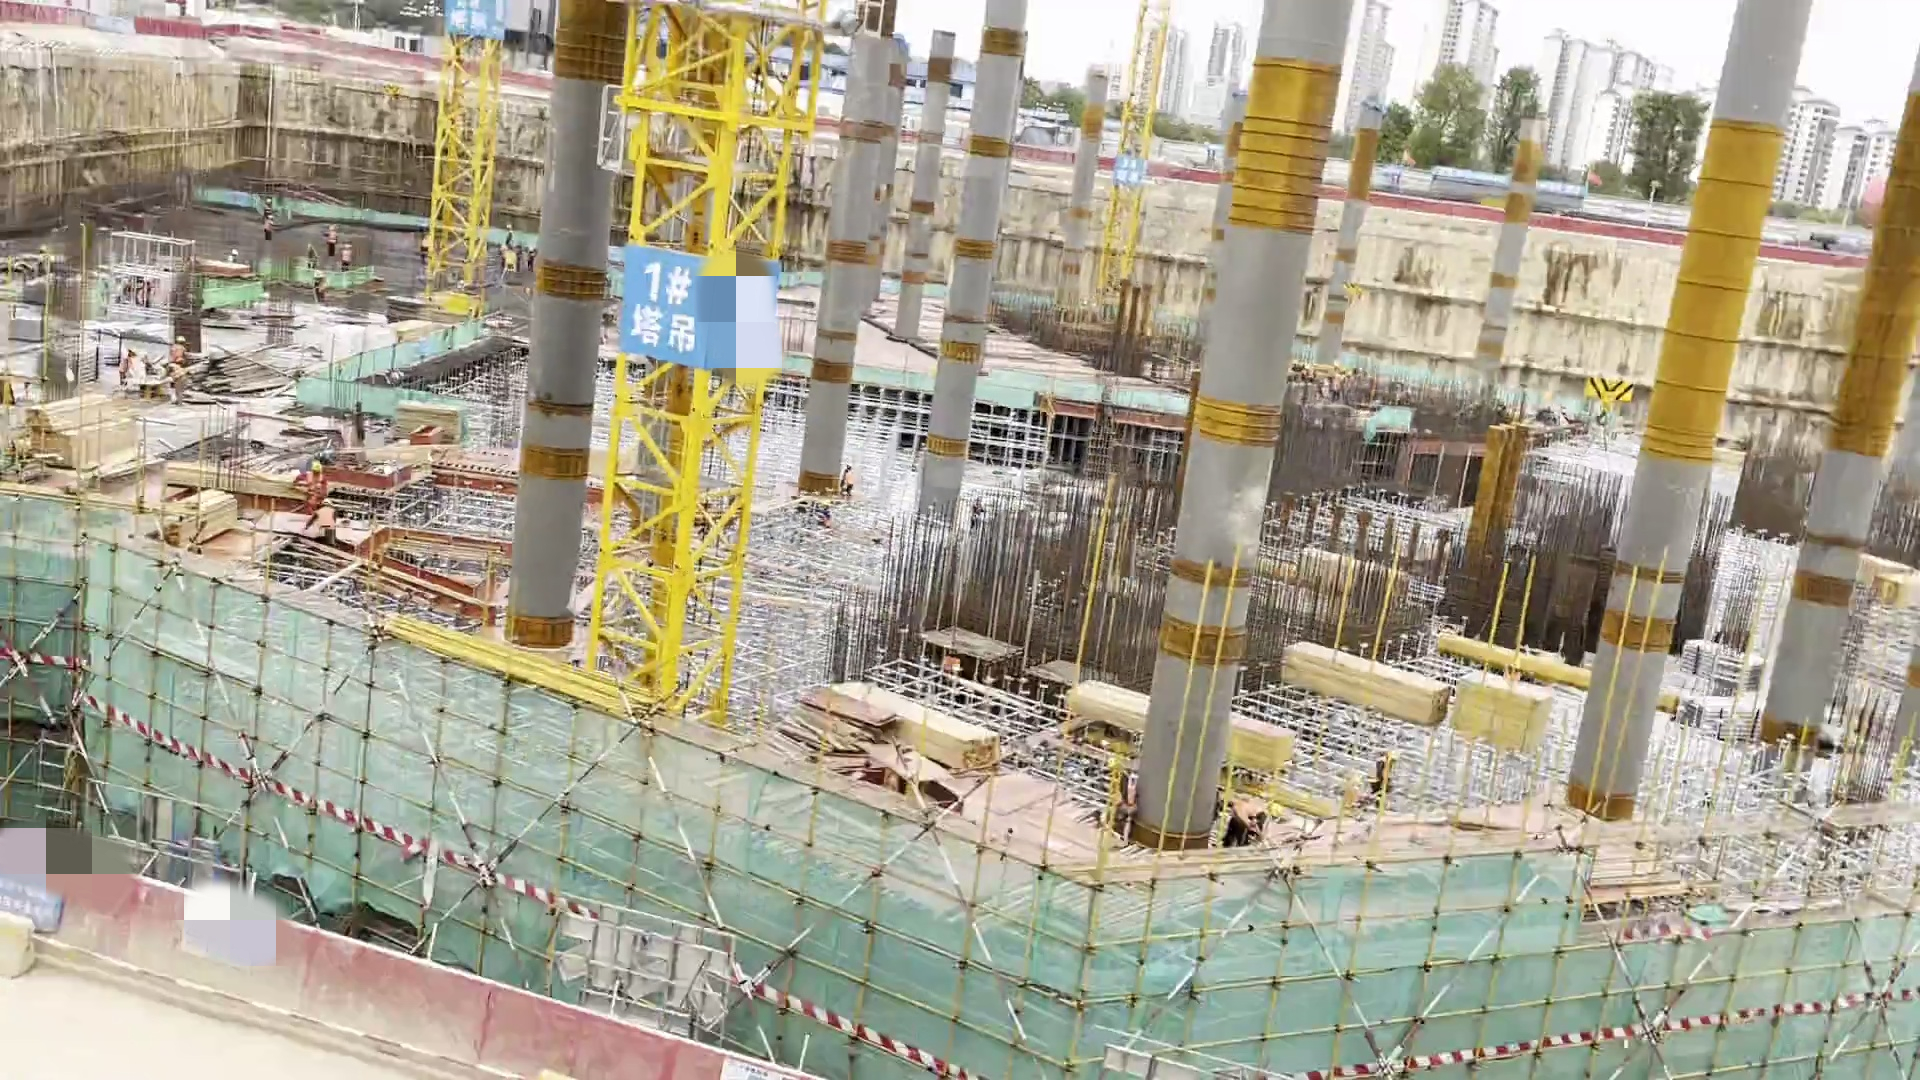fence: (34, 870, 869, 1080)
helmet: (170, 329, 188, 347), (335, 235, 356, 250), (307, 451, 325, 470), (319, 492, 336, 507), (502, 209, 516, 227), (323, 221, 338, 234), (125, 340, 141, 351)
hook: (1578, 366, 1636, 431)
person: (295, 453, 338, 520), (318, 496, 345, 547), (320, 223, 343, 270), (117, 342, 138, 383), (168, 331, 191, 366), (338, 240, 357, 275), (499, 217, 515, 243)
wood: (821, 682, 1009, 775), (1285, 637, 1439, 723), (1441, 620, 1599, 681), (24, 393, 135, 470), (163, 460, 301, 497), (170, 489, 241, 548)
